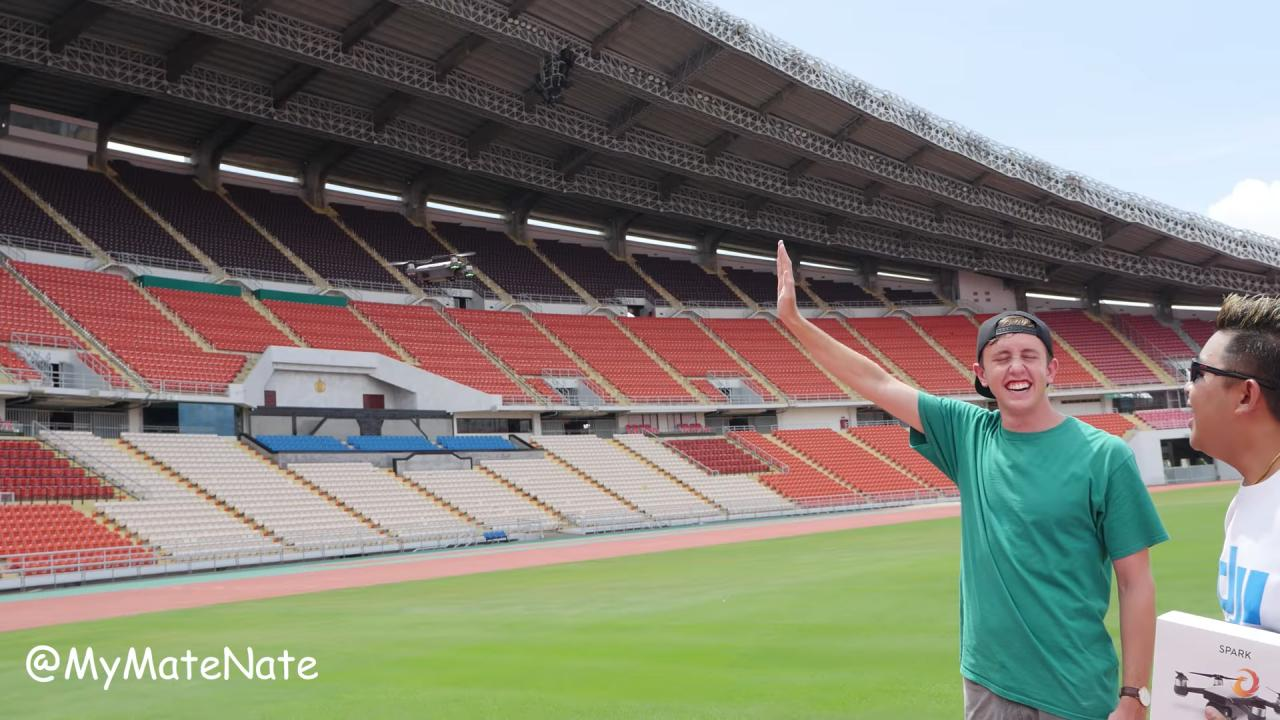Drone: (374, 240, 496, 300)
